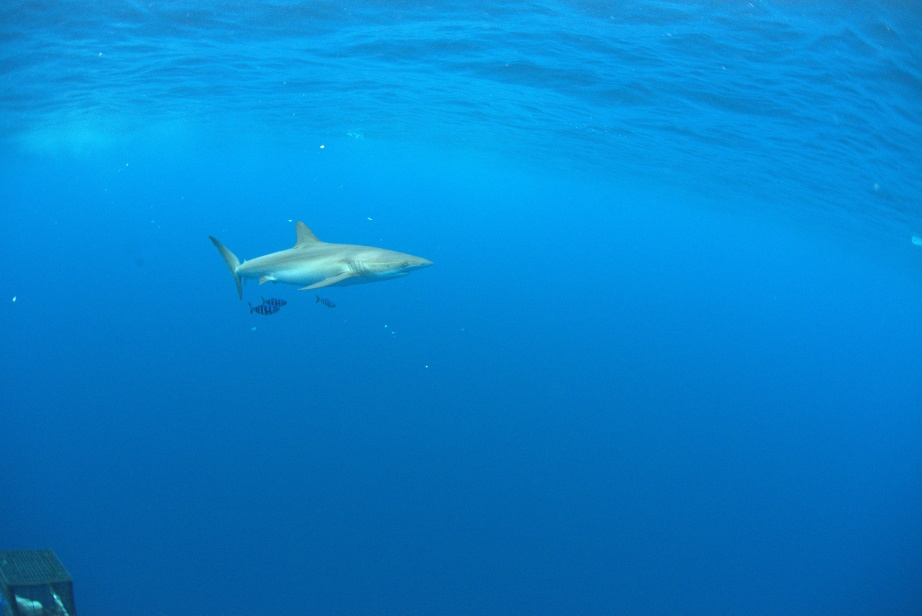Sedoso: (171, 209, 440, 306)
